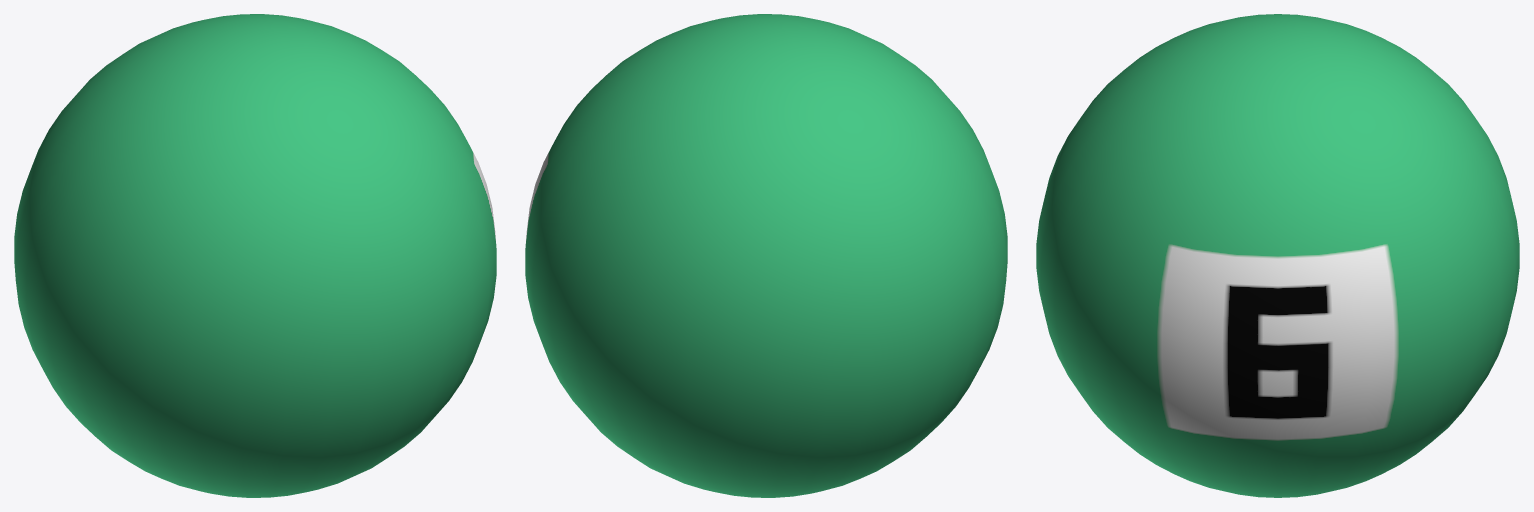
Rendered from textured_sphere_smooth6.obj.
3 views of the same model, side by side, from view 1: azimuth 30°, elevation 25°; view 2: azimuth 150°, elevation 25°; view 3: azimuth 270°, elevation 25° (orthographic).
Visible parts, largest first — view 1: Sphere_Sphere.001; view 2: Sphere_Sphere.001; view 3: Sphere_Sphere.001.
Boxes of the visible parts, x1=… form: Sphere_Sphere.001: x1=14, y1=14, x2=496, y2=497; Sphere_Sphere.001: x1=525, y1=14, x2=1007, y2=497; Sphere_Sphere.001: x1=1036, y1=14, x2=1519, y2=497.
Bounding box in the file's own units: 2 × 2 × 2.
